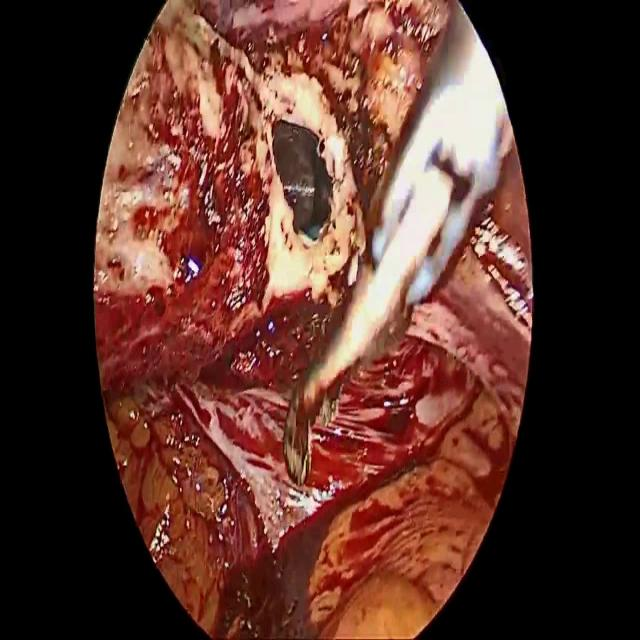surgical-area: (94, 0, 532, 639)
surgical-tool: (282, 0, 514, 487)
